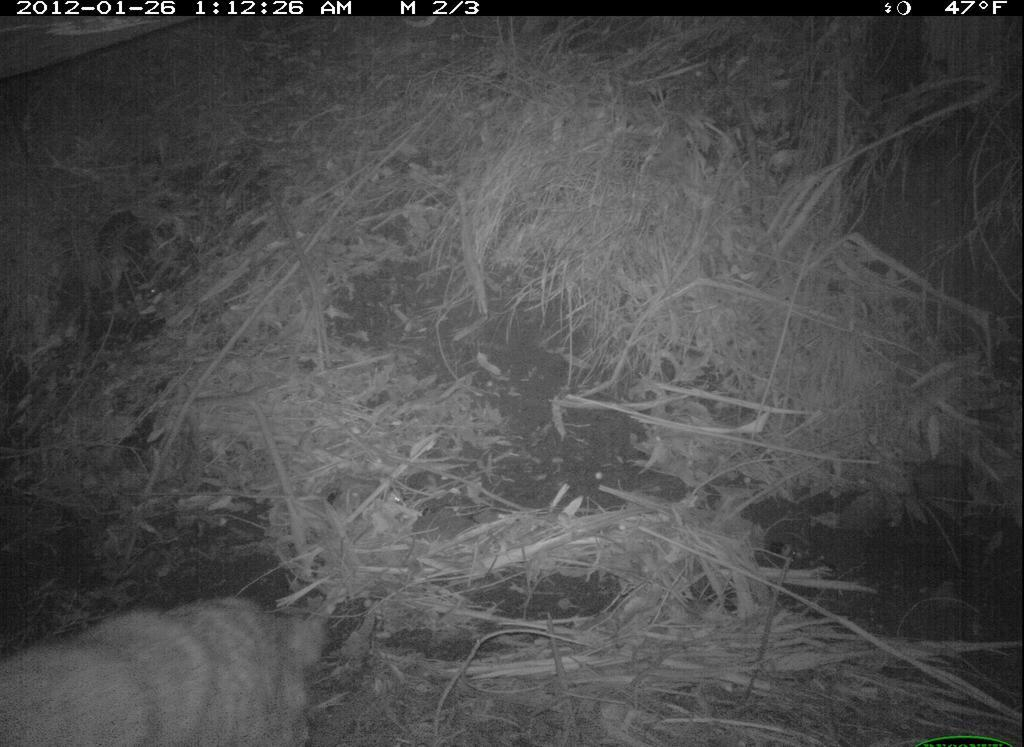coyote: (9, 561, 345, 745)
